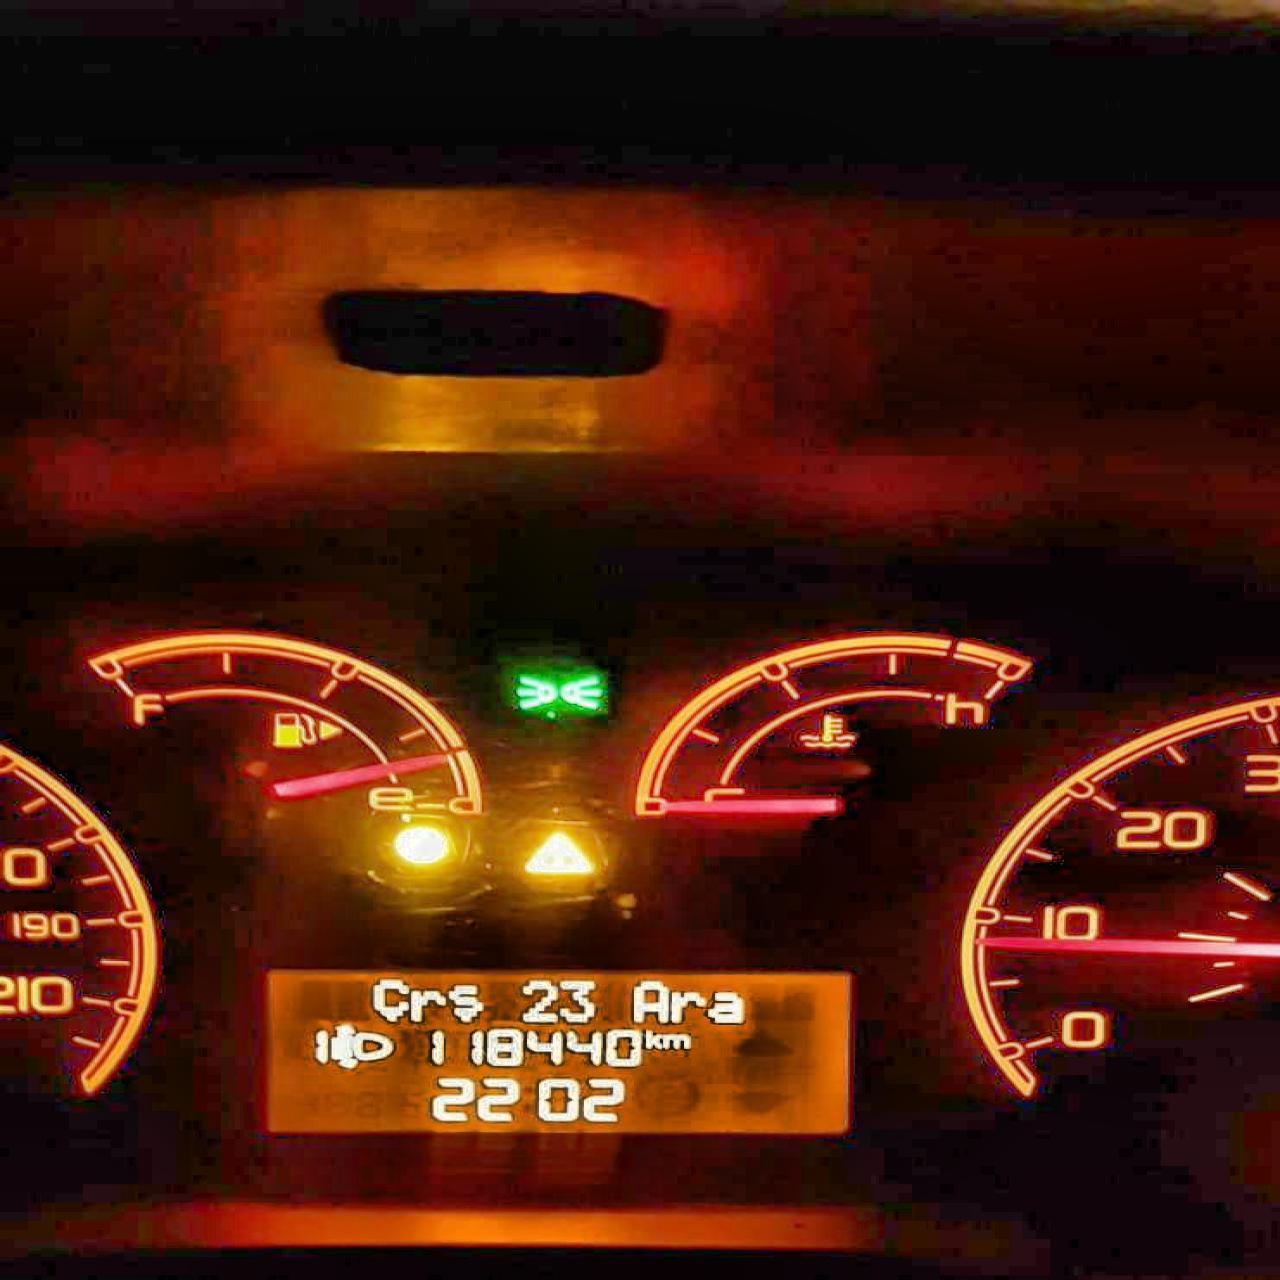0: (533, 1075, 583, 1122), (605, 1026, 645, 1068)
1: (424, 1028, 448, 1067), (309, 1024, 328, 1065), (467, 1026, 482, 1067)
2: (428, 1074, 475, 1122), (474, 1076, 519, 1124), (580, 1075, 626, 1123), (520, 978, 558, 1023)
3: (559, 976, 598, 1024)
4: (523, 1027, 565, 1064), (565, 1027, 601, 1064)
8: (485, 1027, 522, 1068)
X: (369, 978, 409, 1023), (631, 980, 667, 1022), (408, 986, 445, 1022), (448, 981, 482, 1021), (670, 989, 704, 1022), (710, 989, 743, 1022), (662, 1032, 692, 1050), (645, 1027, 660, 1050)
odometer: (261, 967, 864, 1141)
